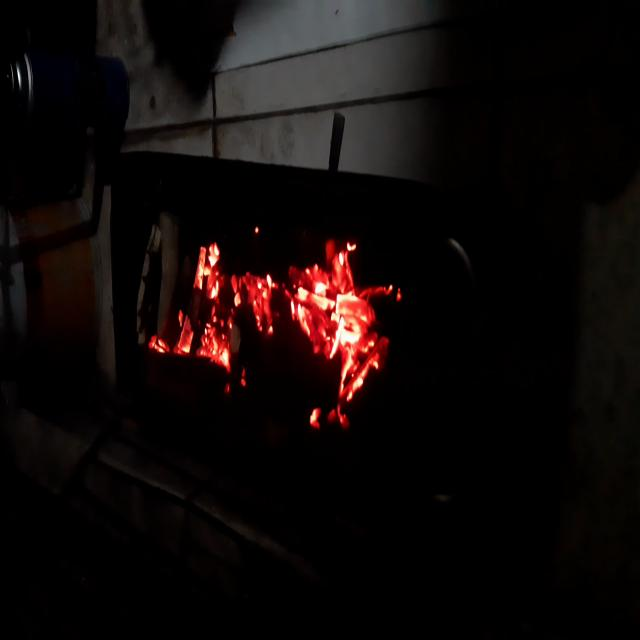Fire: (125, 190, 408, 460)
